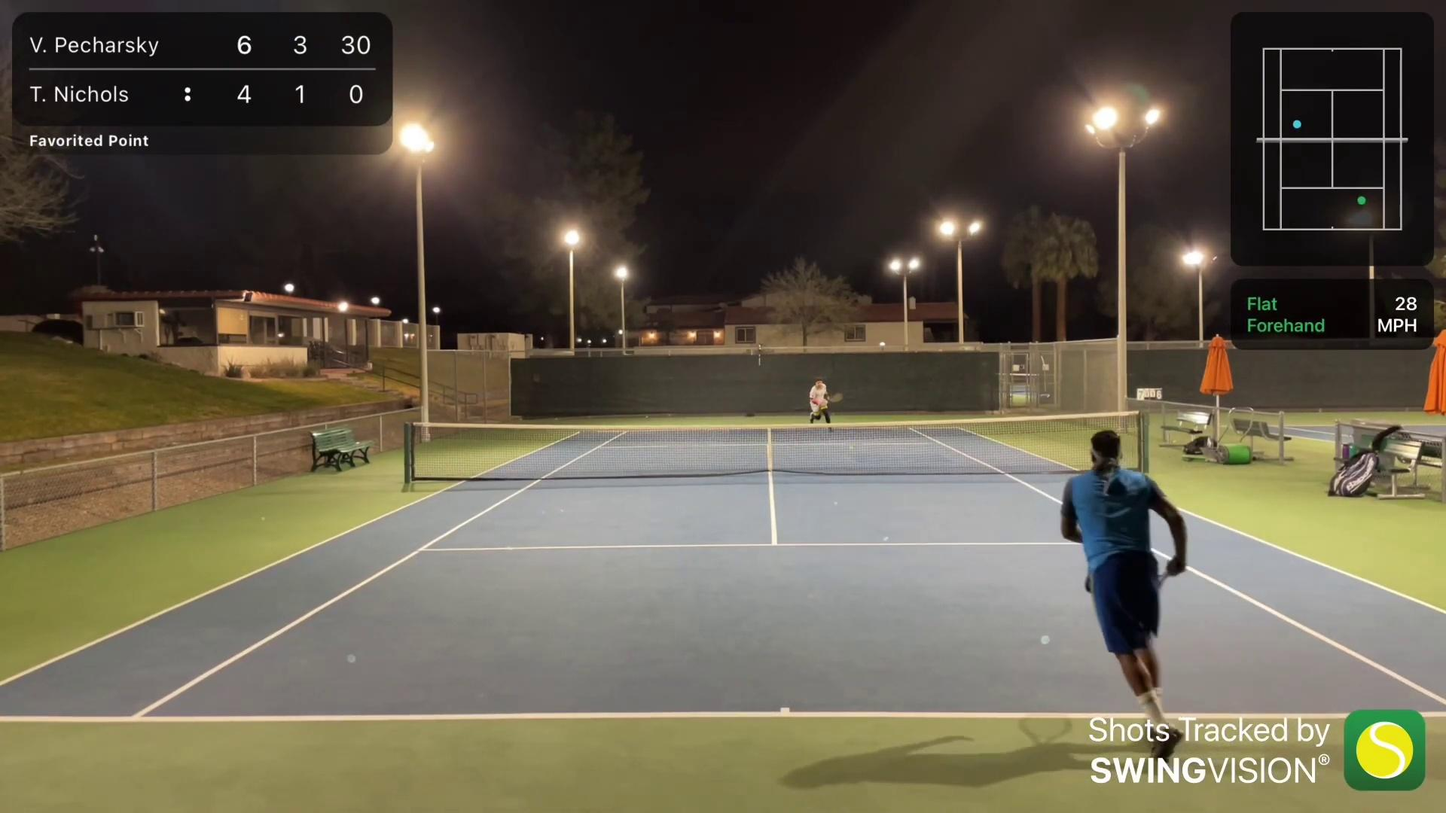ball: (845, 444, 853, 452)
